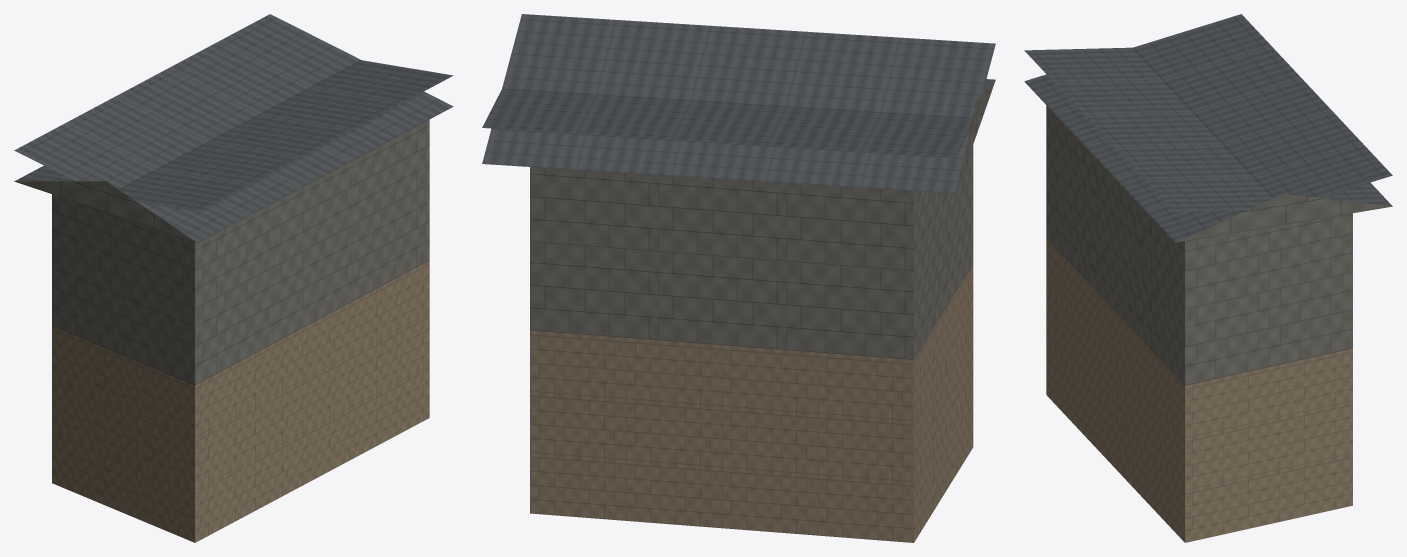
The model's file is bld_c-38_-34_872.gltf.
The picture shows the model from 3 angles, left to right: view 1: azimuth 30°, elevation 25°; view 2: azimuth 150°, elevation 25°; view 3: azimuth 270°, elevation 25°; orthographic projection. The views are drawn at different scales.
Visible parts, largest first — view 1: bld_c-38_-34_872; view 2: bld_c-38_-34_872; view 3: bld_c-38_-34_872.
Part boxes in pixels (bbox=[...]): bld_c-38_-34_872: bbox=[14, 14, 453, 542]; bld_c-38_-34_872: bbox=[482, 14, 995, 542]; bld_c-38_-34_872: bbox=[1024, 14, 1392, 542].
Size of the model in its own units: 13.72 by 11 by 10.8.
4 materials, 4 textured.
